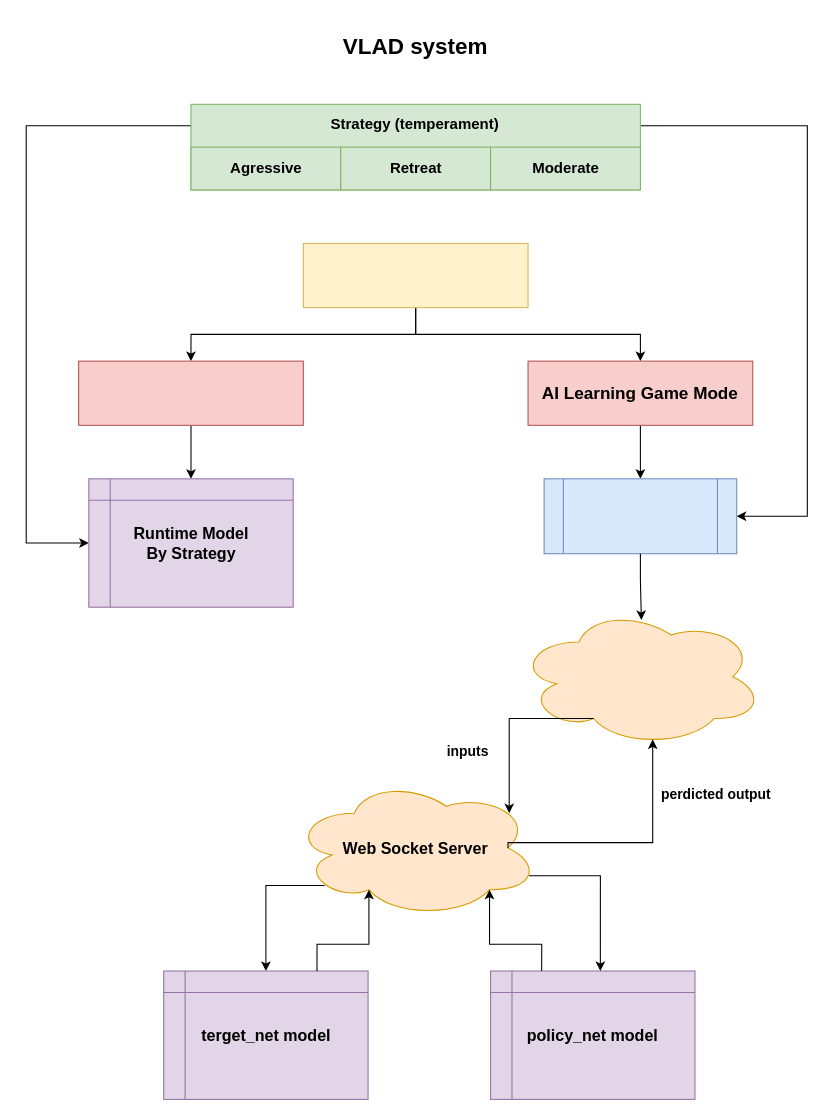
Image size: 835x1118. Some labels were removed from this diagram. Each missing label, with the centre of its shape:
AI Models Game Mode: (x=190, y=392)
Base Game Mode: (x=415, y=275)
Reward Estimator By Strategy: (x=640, y=516)
Web Socket Client: (x=639, y=676)
